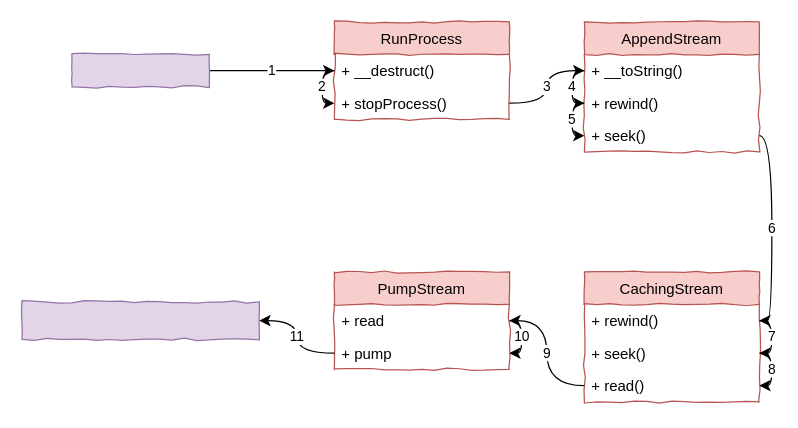
This 798x428 diagram has some shape labels left out. The centre of each missing label's shape, as x and y in pixels:
"call_user_func($source, $length)" belongs at point (140, 320).
"主程序结束" belongs at point (140, 70).
